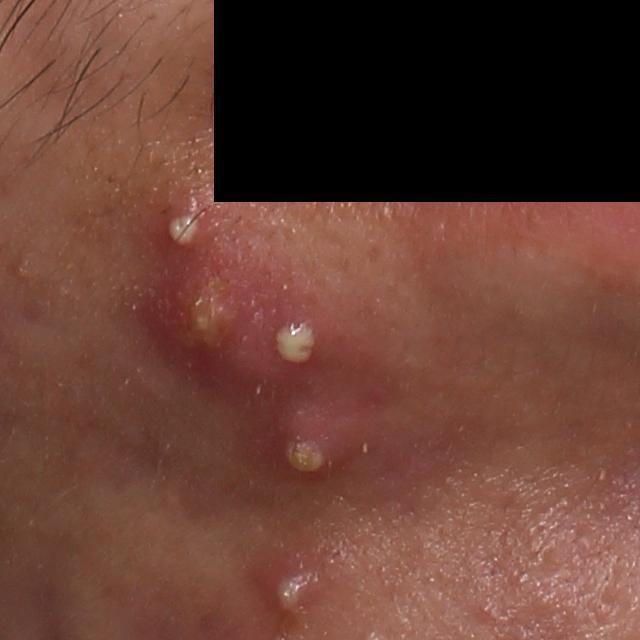comedo: (9, 255, 36, 282)
nodule: (125, 184, 393, 416)
pustule: (248, 408, 372, 480), (257, 550, 328, 623)
